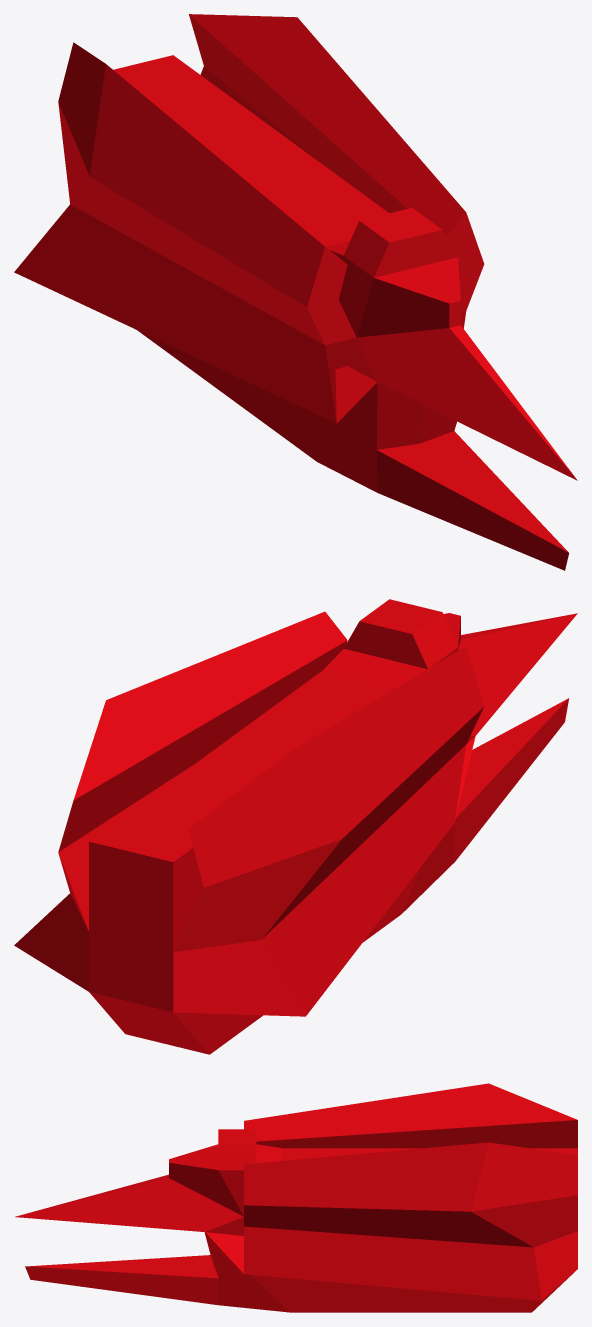
The model's file is Lazer.fbx.
3 renders of one model, top to bottom at view 1: azimuth 30°, elevation 25°; view 2: azimuth 150°, elevation 25°; view 3: azimuth 270°, elevation 25°, orthographic. The views are drawn at different scales.
Parts seen in each view (by area): view 1: Laser; view 2: Laser; view 3: Laser.
Part boxes in pixels (x1,y1,x2,y2): Laser: (14, 14, 577, 570); Laser: (14, 599, 577, 1054); Laser: (15, 1083, 577, 1312).
Bounding box in the file's own units: 240 × 233 × 637.
